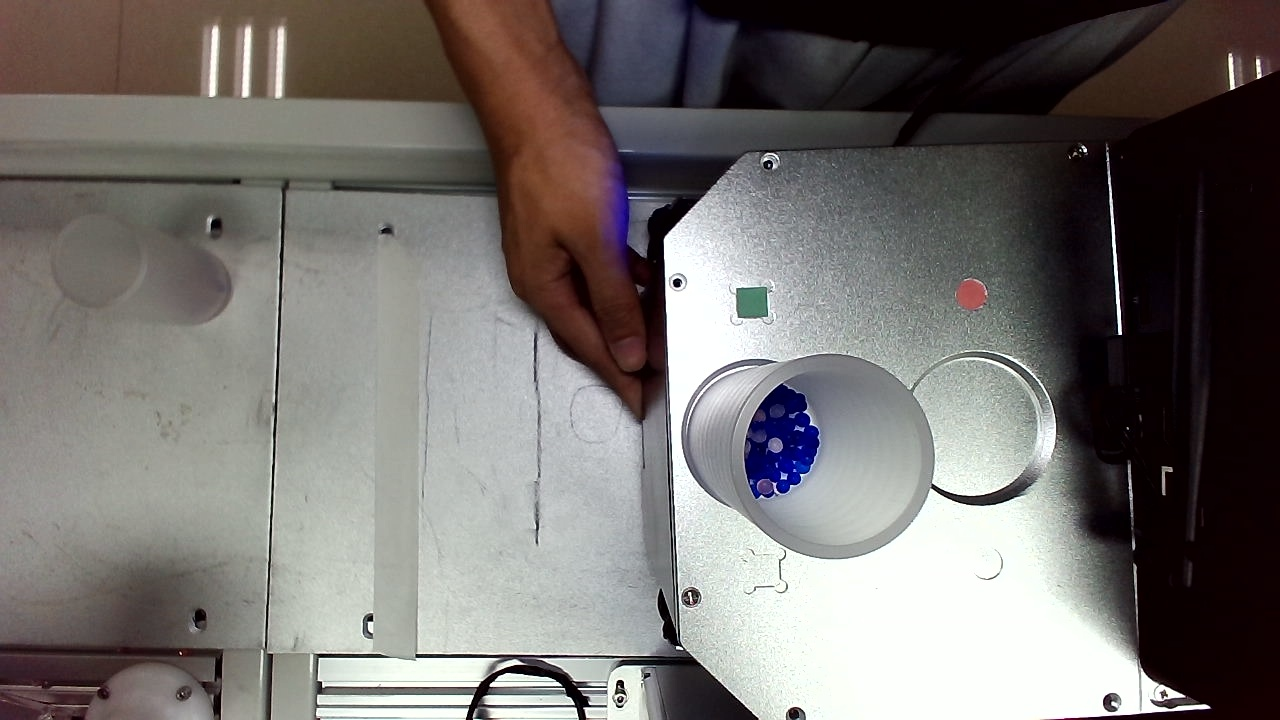bad: (254, 611, 307, 655), (259, 16, 305, 60), (817, 460, 858, 508), (583, 297, 628, 340), (675, 608, 716, 651), (734, 344, 775, 385), (807, 412, 849, 452), (669, 273, 708, 315), (519, 246, 559, 285), (345, 1, 384, 40), (842, 514, 880, 554), (836, 49, 876, 86), (269, 205, 313, 238), (260, 168, 299, 205), (501, 452, 538, 491), (258, 288, 295, 326), (769, 201, 808, 237), (785, 1, 821, 39), (804, 61, 840, 97), (436, 43, 472, 78), (832, 194, 872, 224), (531, 424, 566, 457), (260, 334, 295, 364)
defact: (653, 174, 688, 213)
pass: (567, 147, 615, 197), (551, 391, 596, 443), (261, 526, 304, 569), (818, 545, 863, 585), (263, 408, 306, 449), (287, 568, 330, 609), (515, 391, 554, 435), (435, 393, 476, 434), (715, 231, 754, 273), (716, 573, 754, 616), (674, 42, 712, 83), (695, 443, 731, 486), (566, 609, 604, 649), (853, 556, 895, 592), (683, 214, 719, 255), (682, 155, 717, 197)
toolong: (610, 416, 655, 488), (343, 39, 381, 103), (843, 230, 877, 293)
unpass: (830, 4, 874, 53), (582, 546, 626, 589), (457, 232, 497, 278), (763, 407, 804, 446), (800, 202, 839, 242), (277, 364, 319, 401), (308, 6, 346, 46), (403, 55, 440, 95), (822, 159, 864, 194), (712, 327, 751, 364), (685, 568, 721, 607), (696, 10, 733, 47), (845, 323, 883, 358), (852, 443, 888, 479), (845, 382, 881, 418), (642, 13, 675, 51), (729, 288, 762, 325), (827, 350, 861, 384), (657, 204, 690, 235)
